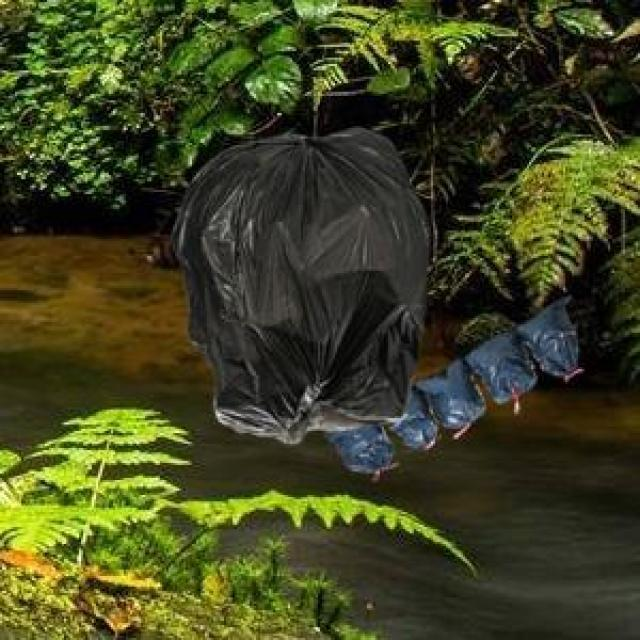waste: (172, 129, 579, 474)
